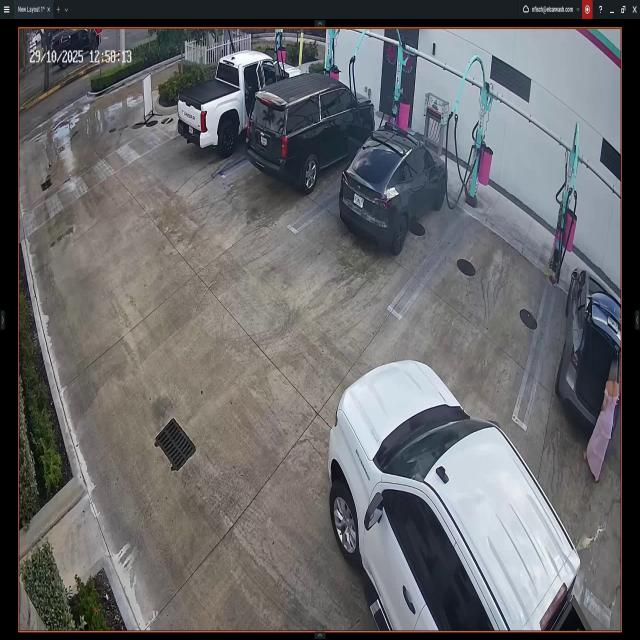Car: (329, 359, 591, 632), (247, 73, 373, 189), (342, 125, 446, 256), (178, 50, 302, 153), (557, 269, 620, 443)
